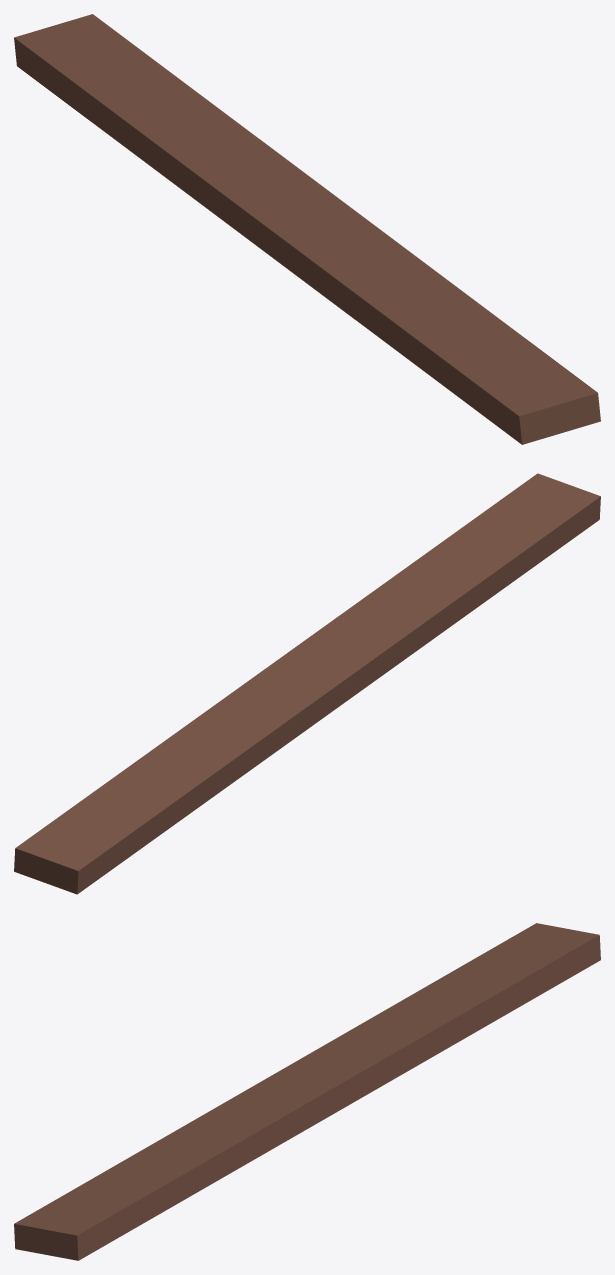
Rendered from group559476899.003_lev3.glb.
3 renders of one model, top to bottom at view 1: azimuth 30°, elevation 25°; view 2: azimuth 150°, elevation 25°; view 3: azimuth 330°, elevation 25°, orthographic. The views are drawn at different scales.
Parts seen in each view (by area): view 1: group559476899.003_lev3; view 2: group559476899.003_lev3; view 3: group559476899.003_lev3.
Part boxes in pixels (x1=…): group559476899.003_lev3: x1=14, y1=14, x2=600, y2=444; group559476899.003_lev3: x1=14, y1=473, x2=600, y2=894; group559476899.003_lev3: x1=14, y1=923, x2=600, y2=1260.
Bounding box in the file's own units: 0.2385 × 0.1354 × 1.75.
